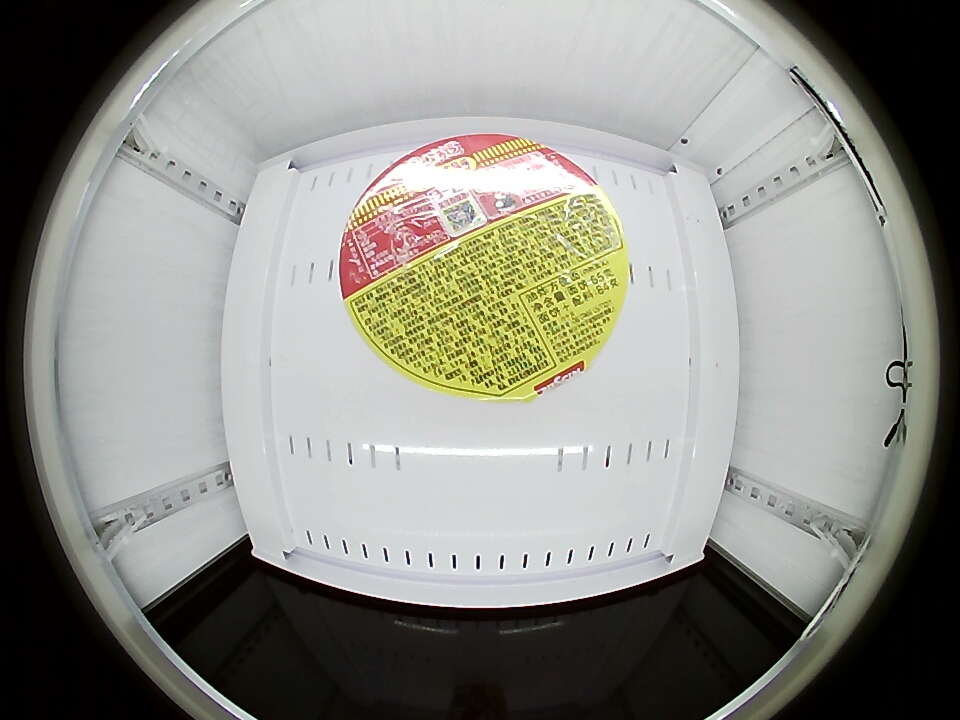heweidao3: (339, 133, 629, 402)
